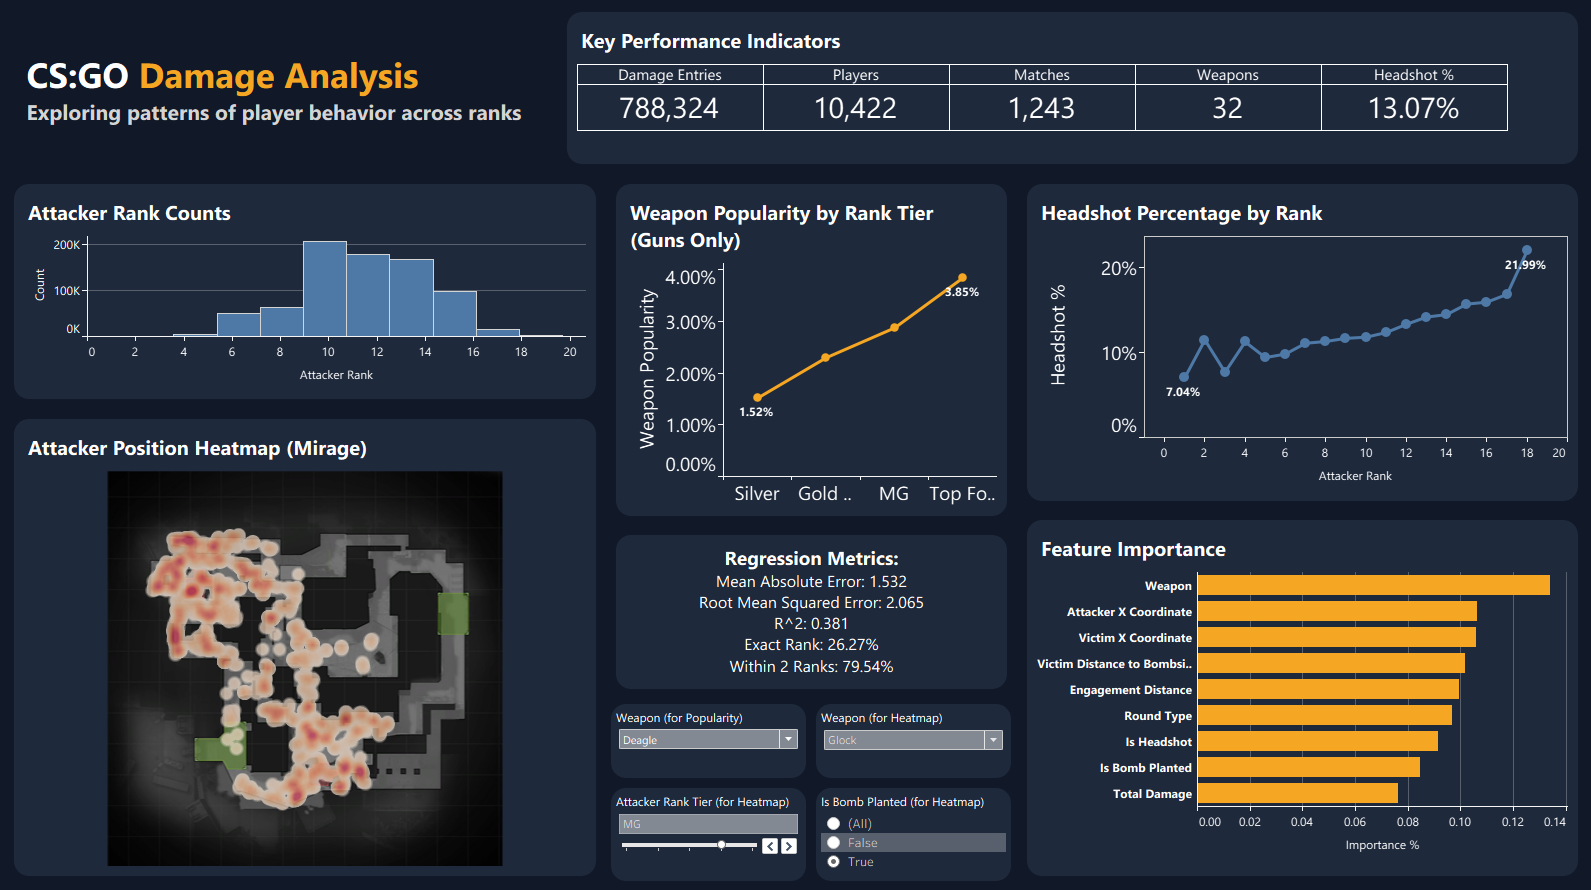

The dashboard page shown, as its layout file describes it:
{"tool":"tableau","page":{"name":"Dashboard 1","canvas":[1600,900],"ordinal":0},"visuals":[{"type":"text","box":[8,8,553,172]},{"type":"worksheet","title":"KPIs","mark":"Automatic","box":[561,8,1031,172]},{"type":"worksheet","title":"Rank Counts","mark":"Automatic","rows":["att_rank"],"cols":["Att Rank (bin)"],"box":[8,180,602,235]},{"type":"worksheet","title":"Weapon Usage","mark":"Line","rows":["Calculation_2426098836574222","Calculation_2426098836574222"],"cols":["att_tier"],"box":[610,180,411,352]},{"type":"worksheet","title":"Headshot %","mark":"Line","rows":["Calculation_2426098842779672","Calculation_2426098842791961"],"cols":["att_rank"],"box":[1021,180,571,337]},{"type":"worksheet","title":"Attacker Position Heatmap (Mirage)","mark":"Heatmap","rows":["att_pos_y"],"cols":["att_pos_x"],"box":[8,415,602,477]},{"type":"worksheet","title":"Feature Importance","mark":"Automatic","rows":["F1"],"cols":["F2"],"box":[1021,516,571,376]},{"type":"text","box":[610,531,411,174]},{"type":"filter","title":"Weapon Usage","param":"[federated.0ow8d221aavogv1ah3uoj0orepo3].[none:wp:nk]","box":[610,705,205.4,84]},{"type":"filter","title":"Attacker Position Heatmap (Mirage)","param":"[federated.0ow8d221aavogv1ah3uoj0orepo3].[none:wp:nk]","box":[815.4,705,205.4,84]},{"type":"filter","title":"Attacker Position Heatmap (Mirage)","param":"[federated.0ow8d221aavogv1ah3uoj0orepo3].[none:att_tier:nk]","box":[610,789,205.4,103]},{"type":"filter","title":"Attacker Position Heatmap (Mirage)","param":"[federated.0ow8d221aavogv1ah3uoj0orepo3].[none:is_bomb_planted:nk]","box":[815.4,789,205.4,103]}]}

Visuals, with their boxes in screenshot pixels (x1, y1, x2, y2), scaled from the page's 1600x900 canvas onto the 1591x890 screenshot:
text: rect(8, 8, 558, 178)
"KPIs" worksheet: rect(558, 8, 1583, 178)
"Rank Counts" worksheet: rect(8, 178, 607, 410)
"Weapon Usage" worksheet (Line marks): rect(607, 178, 1015, 526)
"Headshot %" worksheet (Line marks): rect(1015, 178, 1583, 511)
"Attacker Position Heatmap (Mirage)" worksheet (Heatmap marks): rect(8, 410, 607, 882)
"Feature Importance" worksheet: rect(1015, 510, 1583, 882)
text: rect(607, 525, 1015, 697)
"Weapon Usage" filter: rect(607, 697, 811, 780)
"Attacker Position Heatmap (Mirage)" filter: rect(811, 697, 1015, 780)
"Attacker Position Heatmap (Mirage)" filter: rect(607, 780, 811, 882)
"Attacker Position Heatmap (Mirage)" filter: rect(811, 780, 1015, 882)
